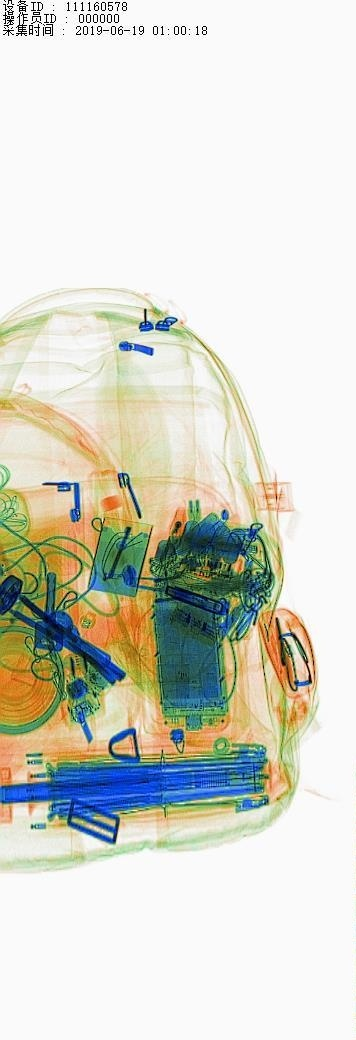NonmetallicFire: (149, 502, 201, 578)
